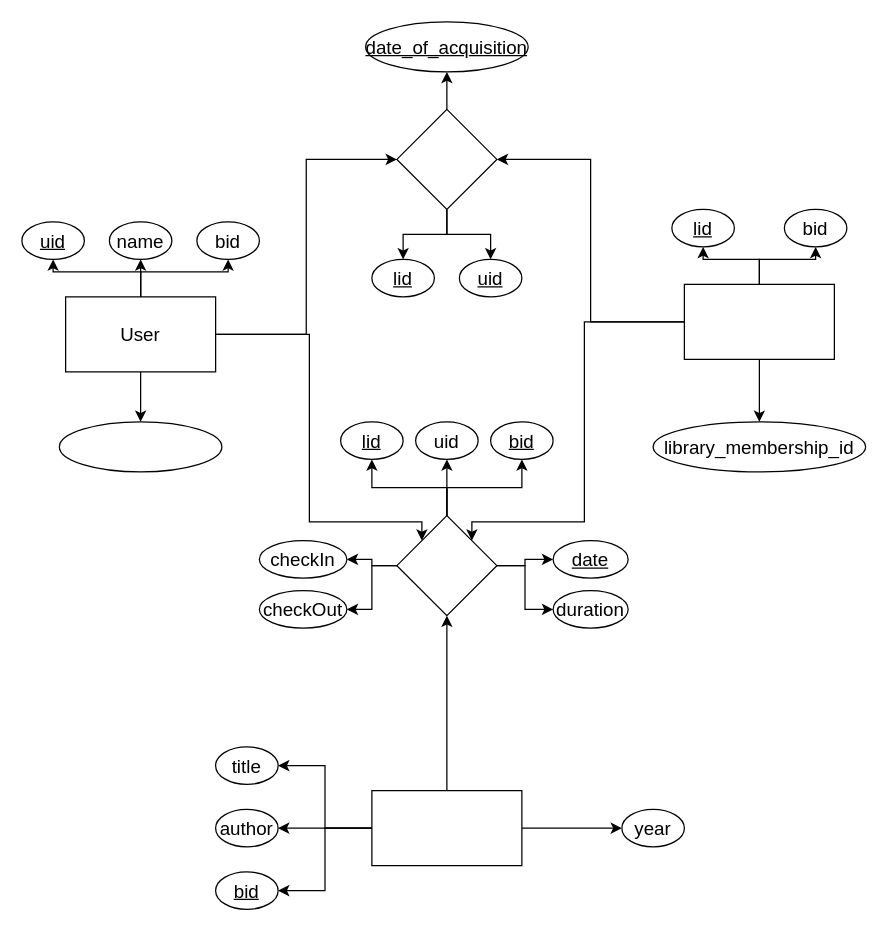
Image size: 888x931. Some labels were removed from this diagram. Each missing label, with the centre of its shape:
"Book" belongs at pixel 446 827.
"CheckBook" belongs at pixel 446 565.
"Library" belongs at pixel 758 321.
"Membership" belongs at pixel 446 158.
"membership_id" belongs at pixel 140 446.
